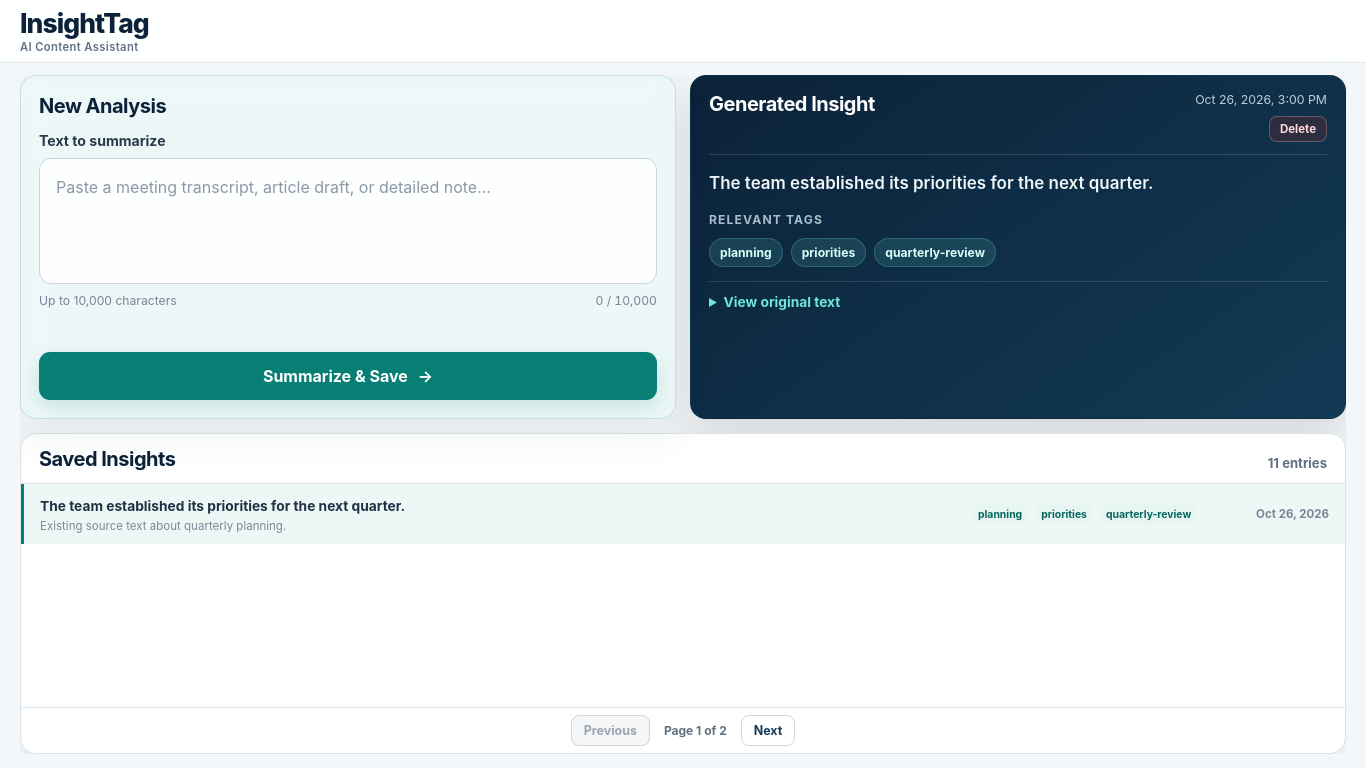
it: InsightTag smoke flow › ignores an older pagination response that finishes last
The width and height of the screenshot is (1366, 768).
Check: the text "Page 1 of 2" is shown, box [664, 723, 727, 738]
Step 1. Click the button "Next" → [768, 730], box [741, 715, 795, 746]
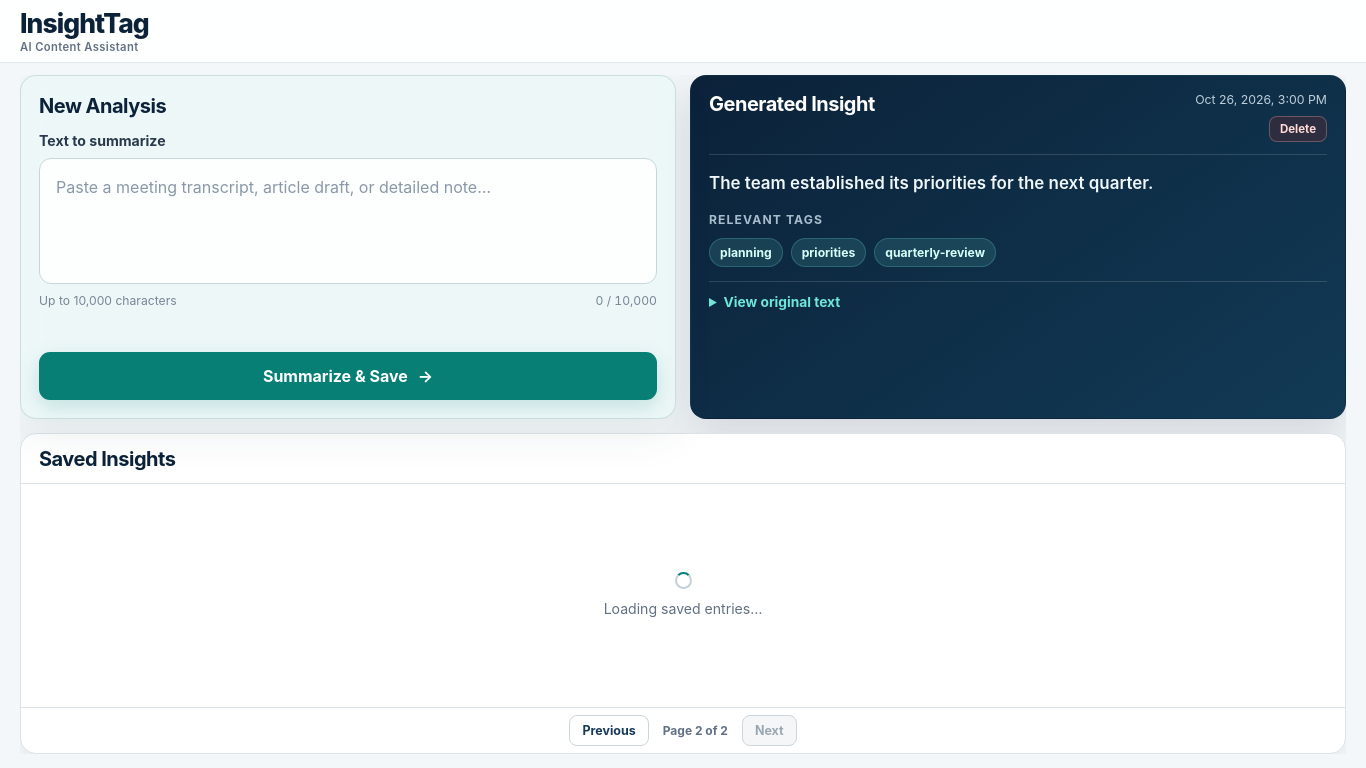
Check: the text "Page 2 of 2" is shown, box [663, 723, 728, 738]
Step 2. Click the button "Previous" → [609, 730], box [569, 715, 649, 746]
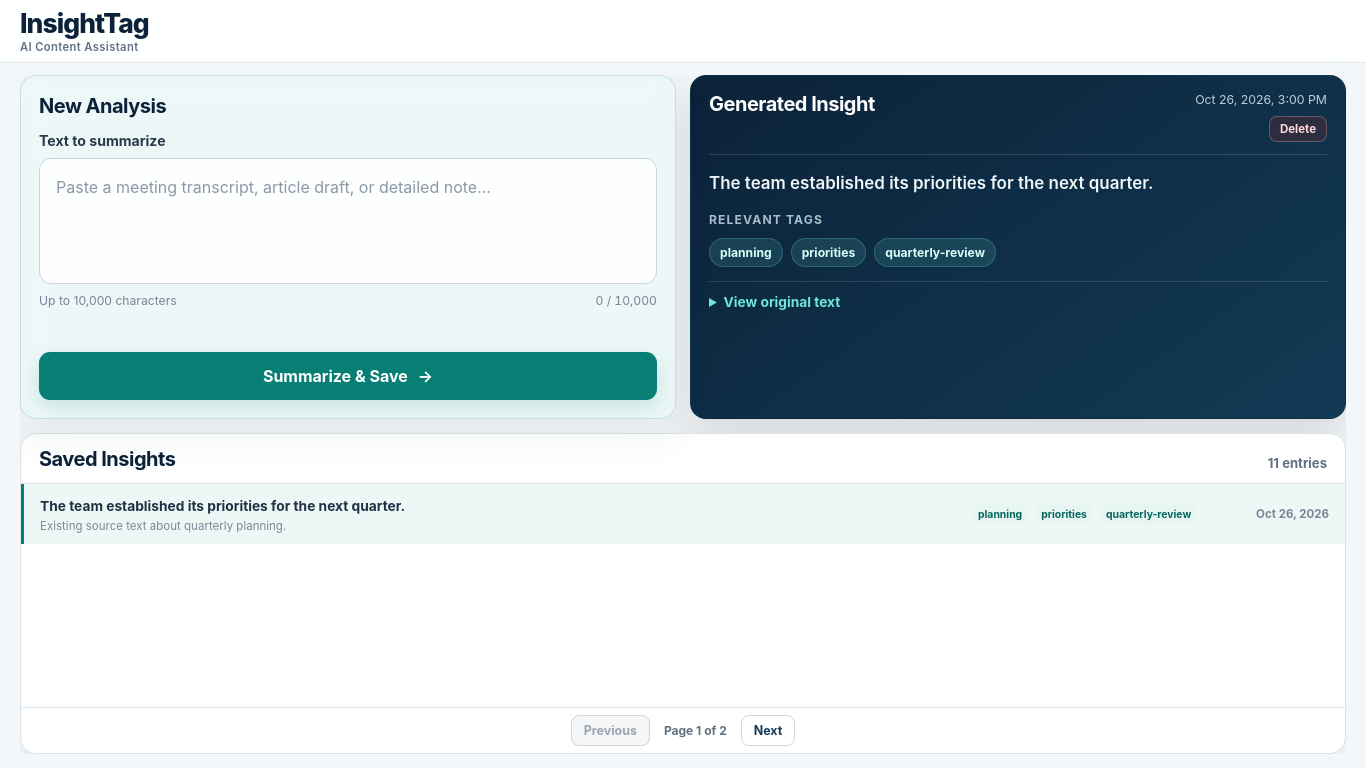
Check: the button "The team established its priorities for the next quarter." is shown, box [21, 484, 1345, 544]
Check: the text "Page 1 of 2" is shown, box [664, 723, 727, 738]
